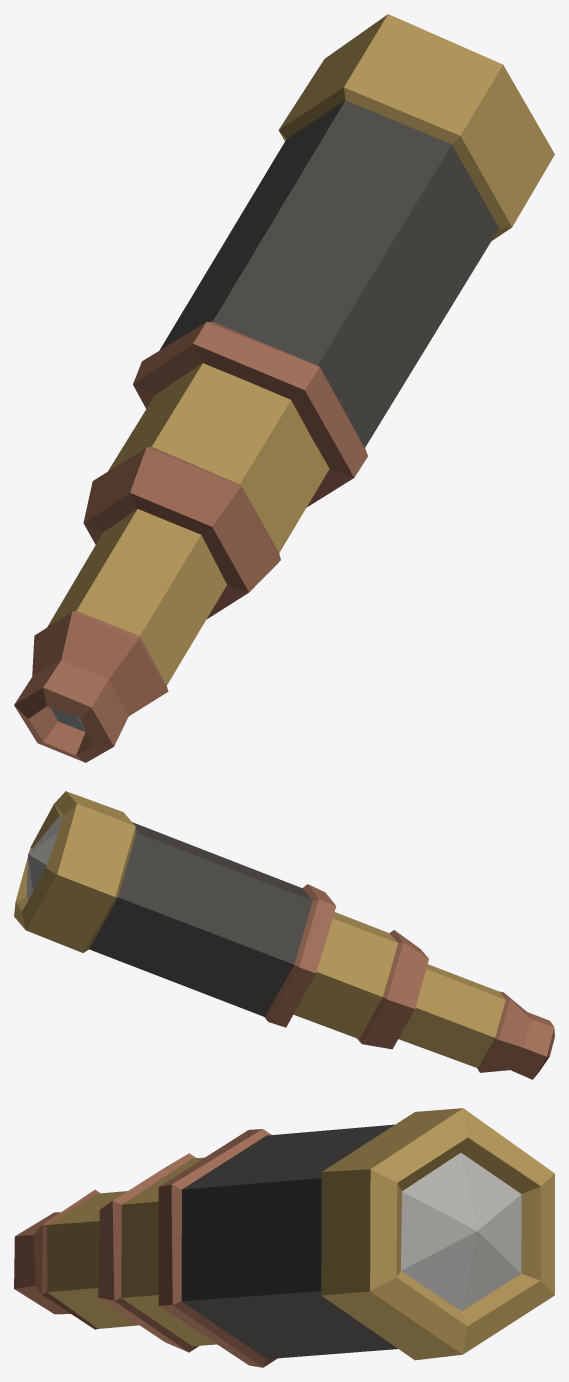
Rendered from spyglass.fbx.
3 renders of one model, top to bottom at view 1: azimuth 30°, elevation 25°; view 2: azimuth 150°, elevation 25°; view 3: azimuth 270°, elevation 25°, orthographic. The views are drawn at different scales.
Visible parts, largest first — view 1: spyglass; view 2: spyglass; view 3: spyglass.
Part boxes in pixels (box(x1,y1,x2,y2)): spyglass: box(14, 14, 554, 762); spyglass: box(14, 791, 554, 1079); spyglass: box(14, 1108, 554, 1367).
Size of the model in its own units: 1.87 by 1.22 by 1.33.
